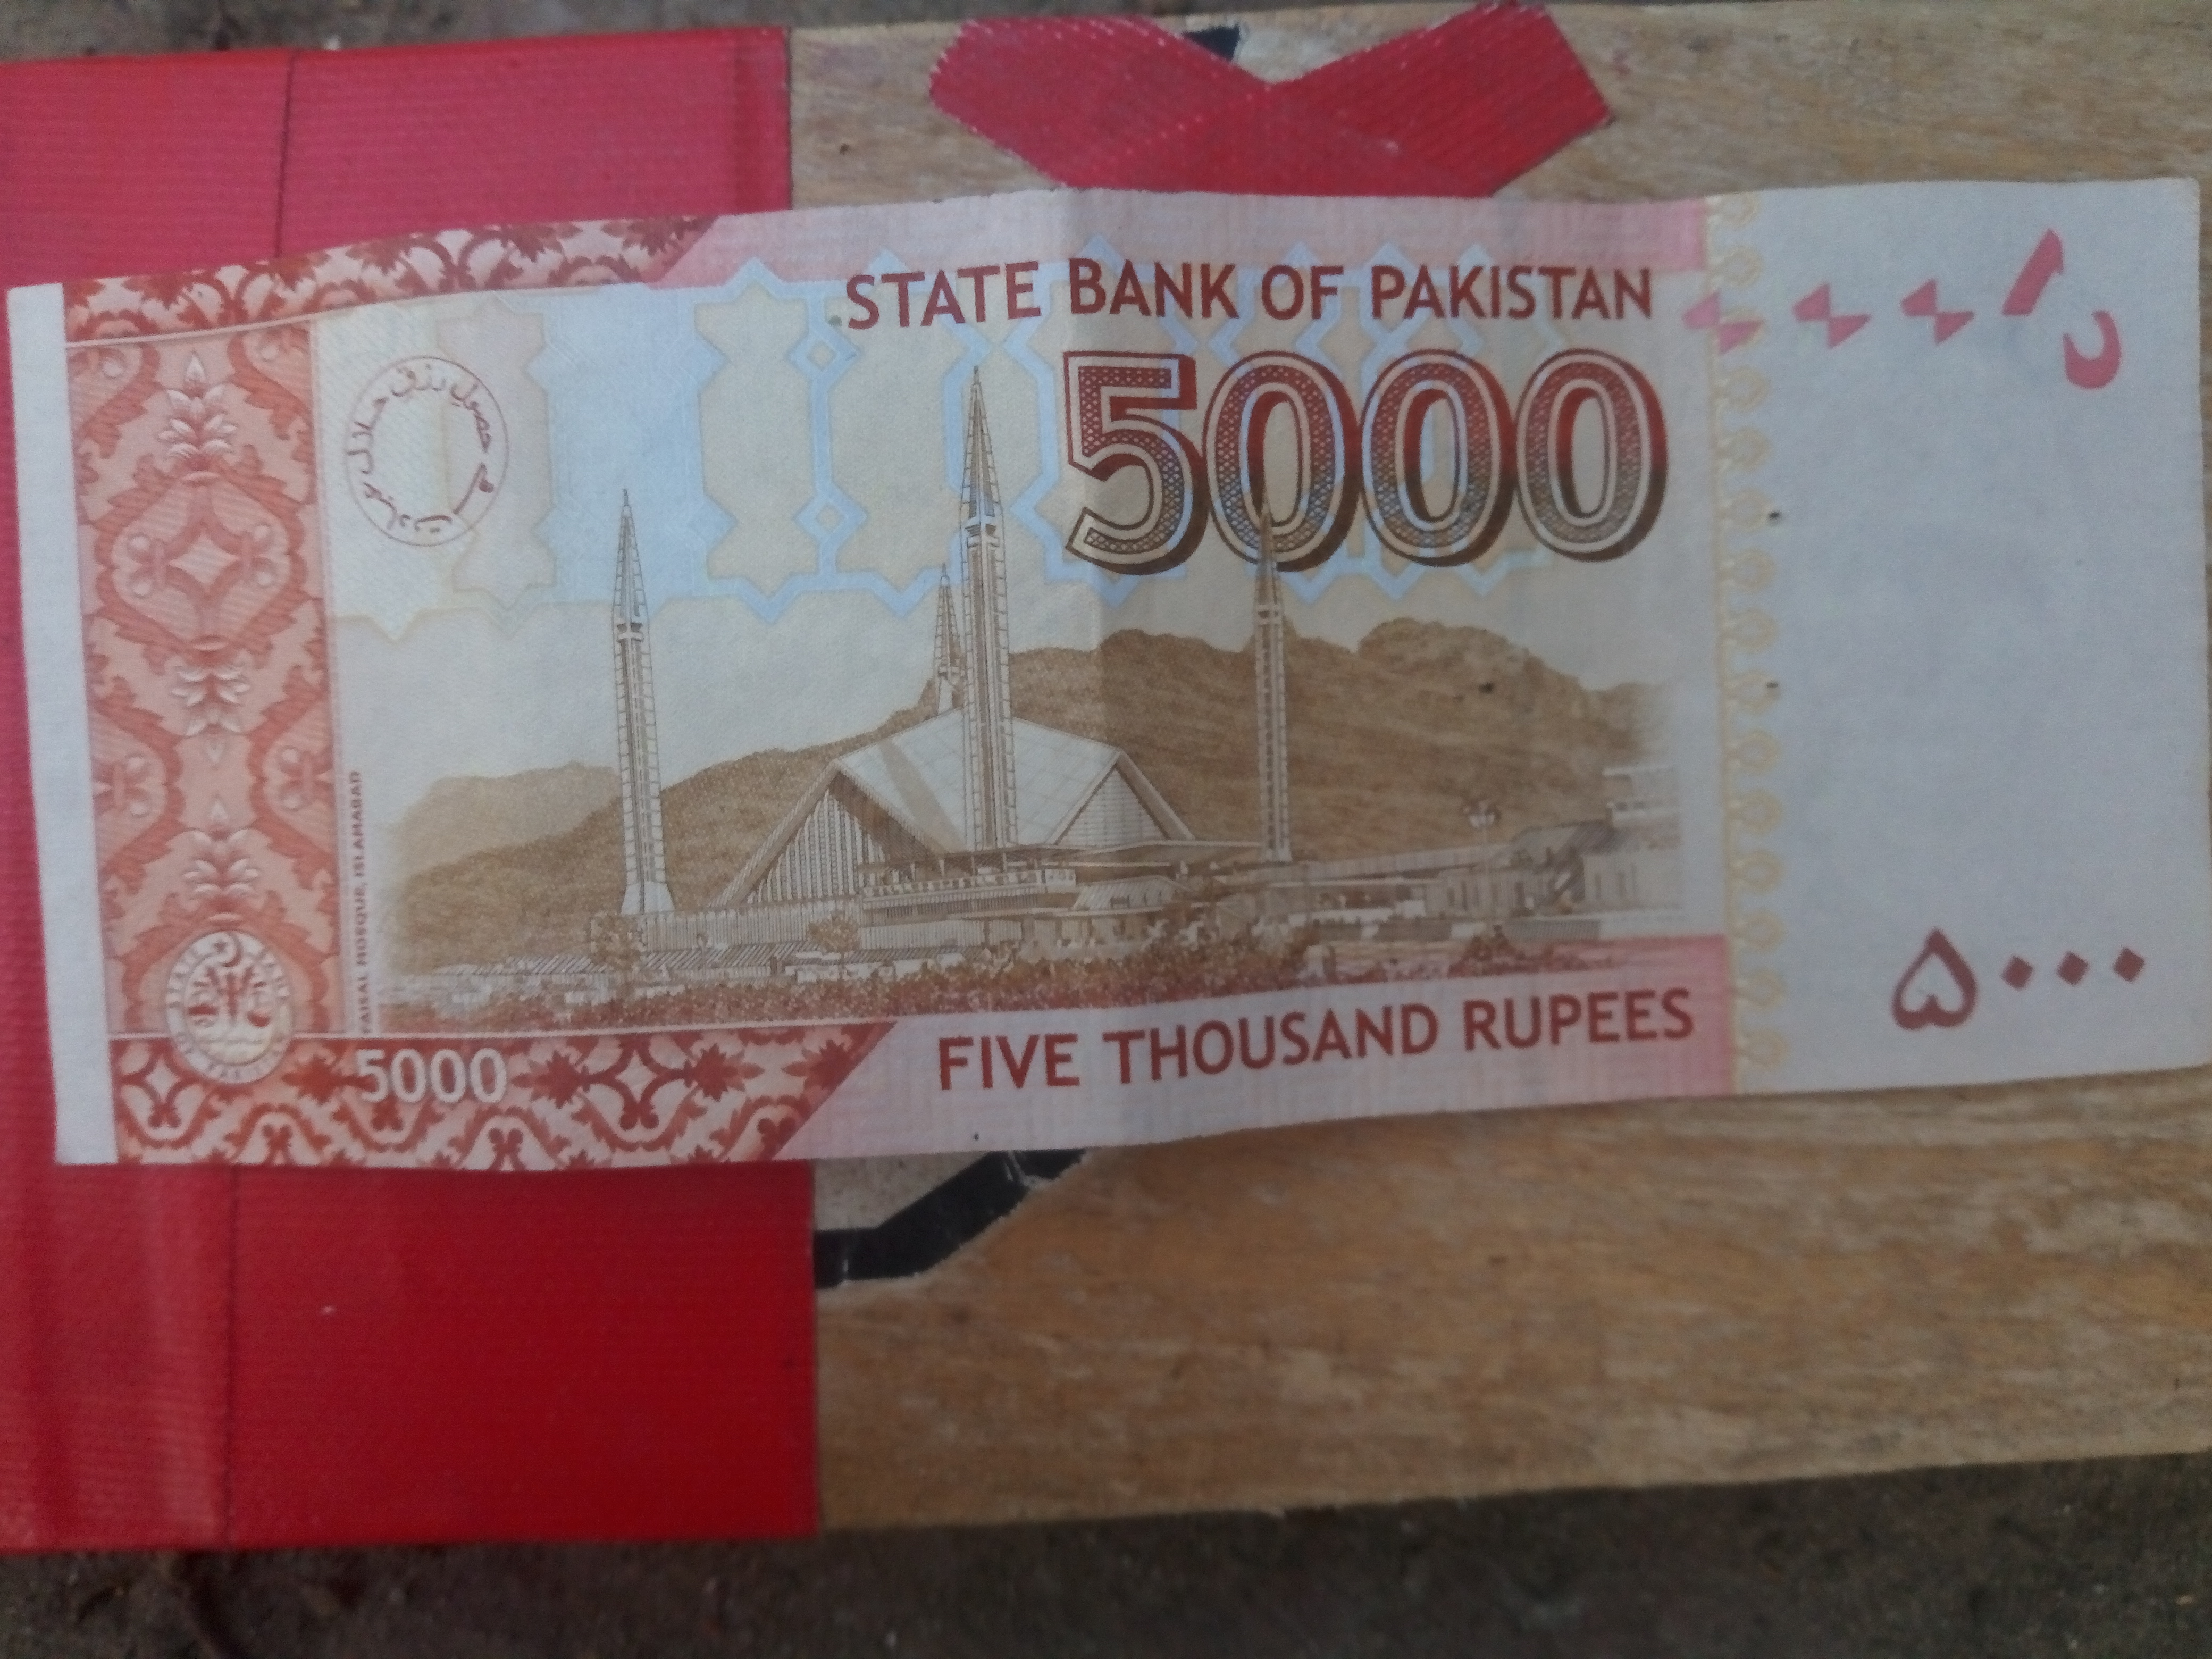5000 rupee: (19, 211, 2189, 1140)
